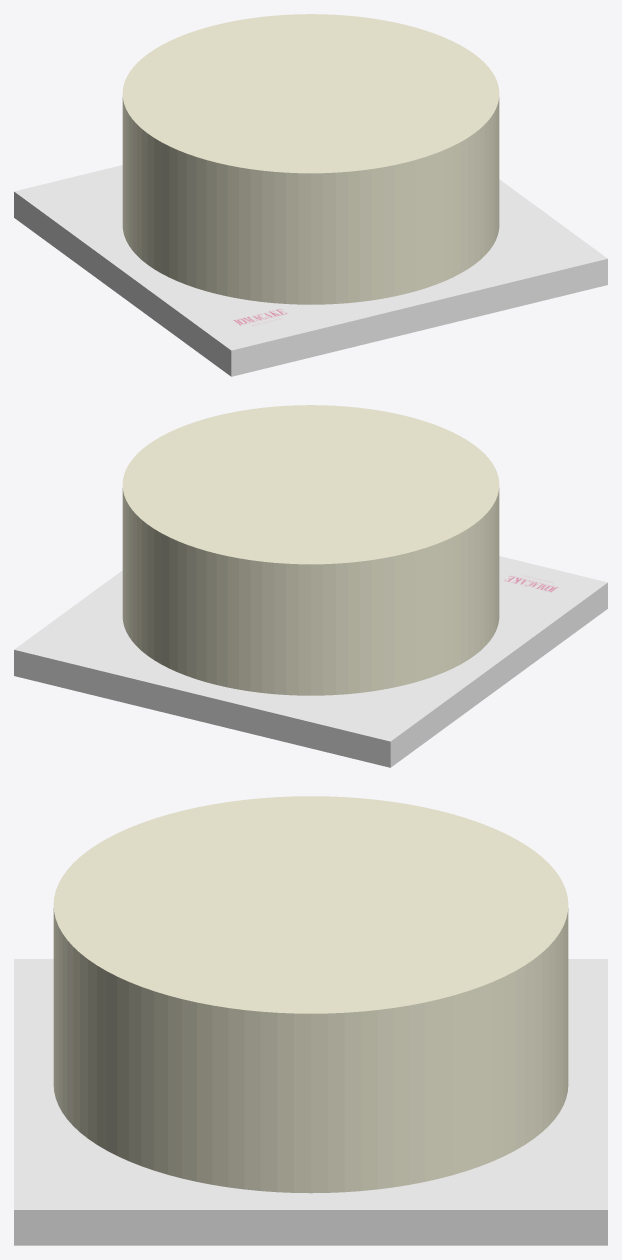
The model's file is cake_10in_layers3_v33.glb.
3 views of the same model, one above another, from view 1: azimuth 30°, elevation 25°; view 2: azimuth 150°, elevation 25°; view 3: azimuth 270°, elevation 25° (orthographic). The views are drawn at different scales.
Visible parts, largest first — view 1: Cake, Board, Logo; view 2: Cake, Board, Logo; view 3: Cake, Board.
Part boxes in pixels (x1,y1,x2,y2): Cake: (122,14,499,304); Board: (14,165,607,376); Logo: (224,305,300,332); Cake: (122,405,499,695); Board: (14,556,607,767); Logo: (499,569,571,596); Cake: (53,796,568,1193); Board: (14,959,607,1245).
Size of the model in its own units: 0.3 by 0.12 by 0.3.
